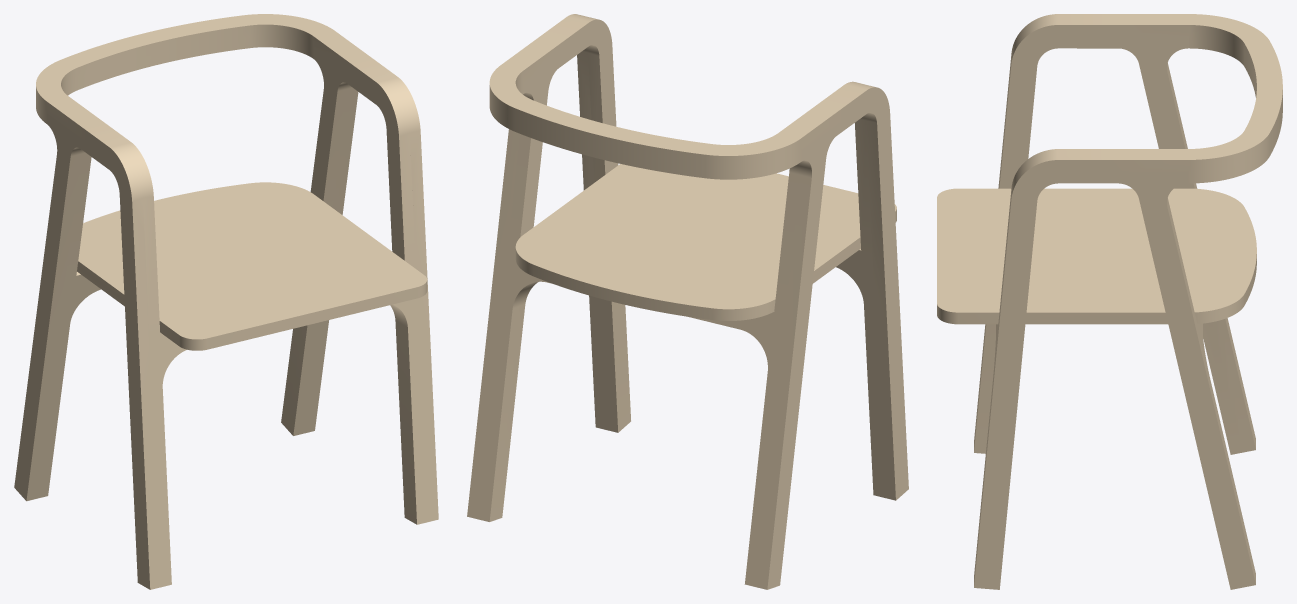
File: flow-chair.glb
3 renders of one model, left to right at view 1: azimuth 30°, elevation 25°; view 2: azimuth 150°, elevation 25°; view 3: azimuth 270°, elevation 25°, orthographic. The views are drawn at different scales.
Parts seen in each view (by area): view 1: FlowChair; view 2: FlowChair; view 3: FlowChair.
Boxes of the visible parts, x1,y1,x2,y2 form: FlowChair: (14, 14, 438, 589); FlowChair: (467, 14, 908, 589); FlowChair: (937, 14, 1282, 589).
Bounding box in the file's own units: 0.4793 × 0.6584 × 0.4799.
